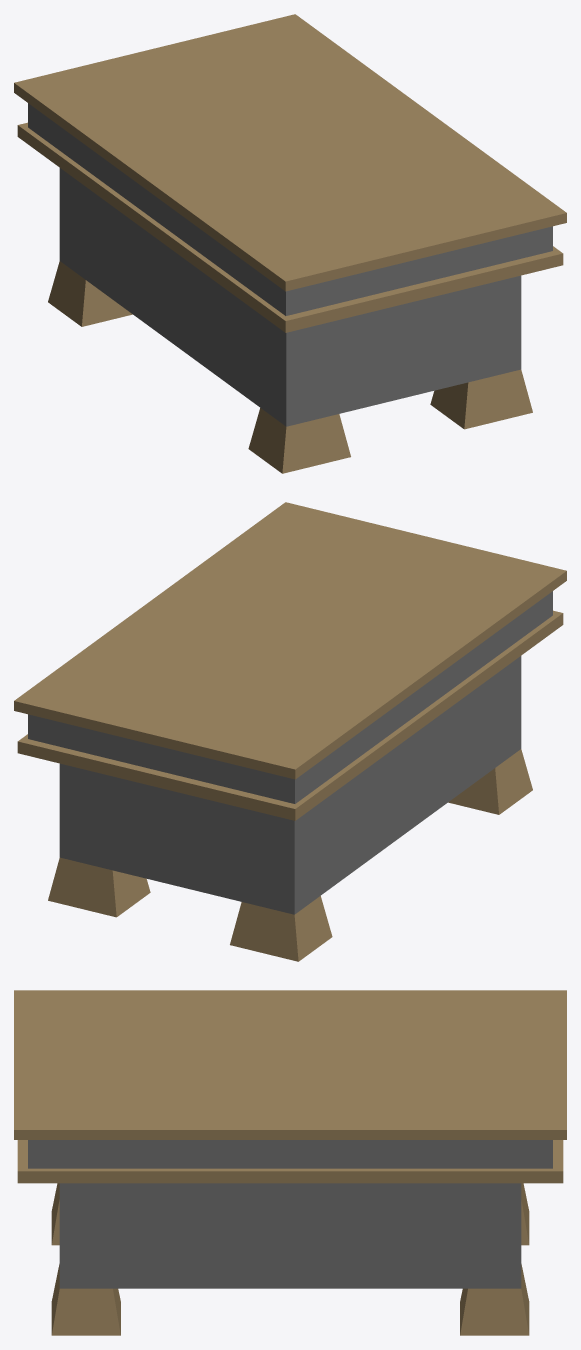
File: autel.fbx
3 views of the same model, one above another, from view 1: azimuth 30°, elevation 25°; view 2: azimuth 150°, elevation 25°; view 3: azimuth 270°, elevation 25° (orthographic).
Parts seen in each view (by area): view 1: autel3; view 2: autel3; view 3: autel3.
Part boxes in pixels (bbox=[...]): autel3: bbox=[14, 14, 566, 473]; autel3: bbox=[14, 502, 566, 961]; autel3: bbox=[14, 990, 566, 1335].
Size of the model in its own units: 256 by 182 by 428.
